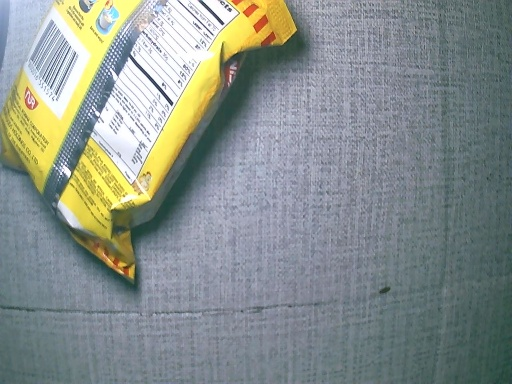plastic: (1, 1, 295, 290)
